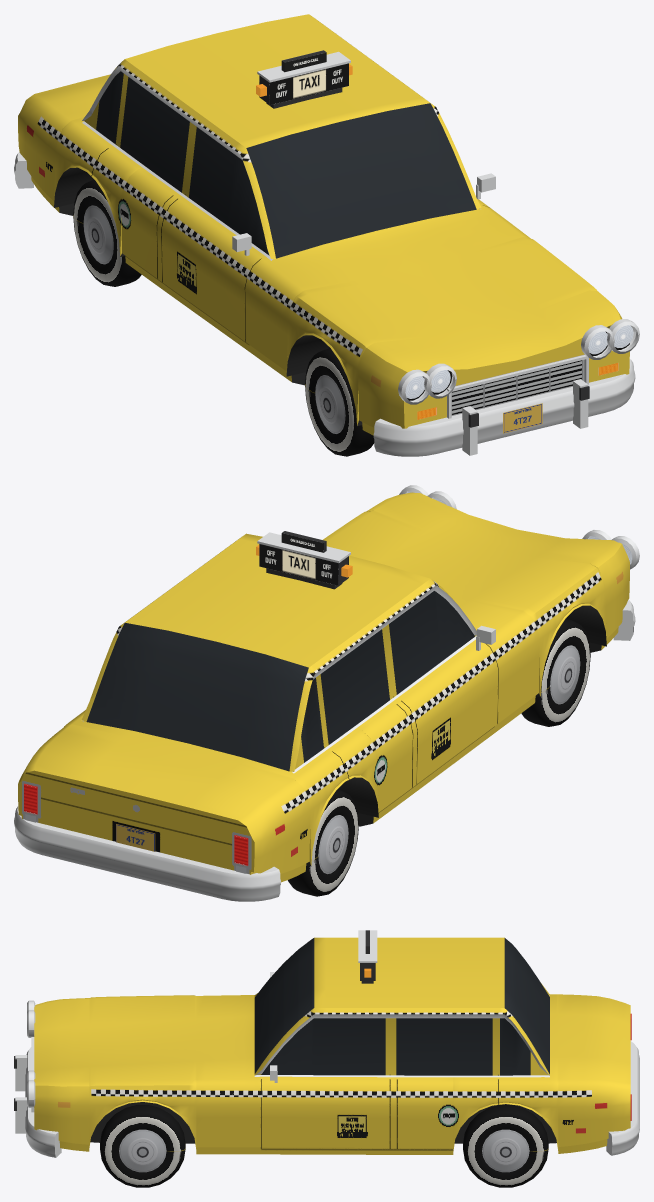
Rendered from checker.glb.
3 views of the same model, one above another, from view 1: azimuth 30°, elevation 25°; view 2: azimuth 150°, elevation 25°; view 3: azimuth 270°, elevation 25° (orthographic). The views are drawn at different scales.
Parts seen in each view (by area): view 1: Body, Wheel_FR, Wheel_RR, HeadlightEmit; view 2: Body, Wheel_FR, Wheel_RR, TailLightEmit; view 3: Body, Wheel_RL, Wheel_FL.
Boxes of the visible parts, bbox=[...] form: Body: bbox=[14, 14, 639, 456]; Wheel_FR: bbox=[305, 348, 374, 456]; Wheel_RR: bbox=[73, 179, 141, 286]; HeadlightEmit: bbox=[405, 325, 633, 398]; Body: bbox=[14, 485, 639, 901]; Wheel_FR: bbox=[521, 619, 590, 726]; Wheel_RR: bbox=[288, 789, 358, 896]; TailLightEmit: bbox=[24, 783, 248, 865]; Body: bbox=[14, 930, 639, 1157]; Wheel_RL: bbox=[463, 1105, 548, 1187]; Wheel_FL: bbox=[100, 1105, 185, 1187].
Size of what is drawn, in the model's own units: 2.02 by 1.91 by 5.26.
Materials: 13 (13 with a texture image).
